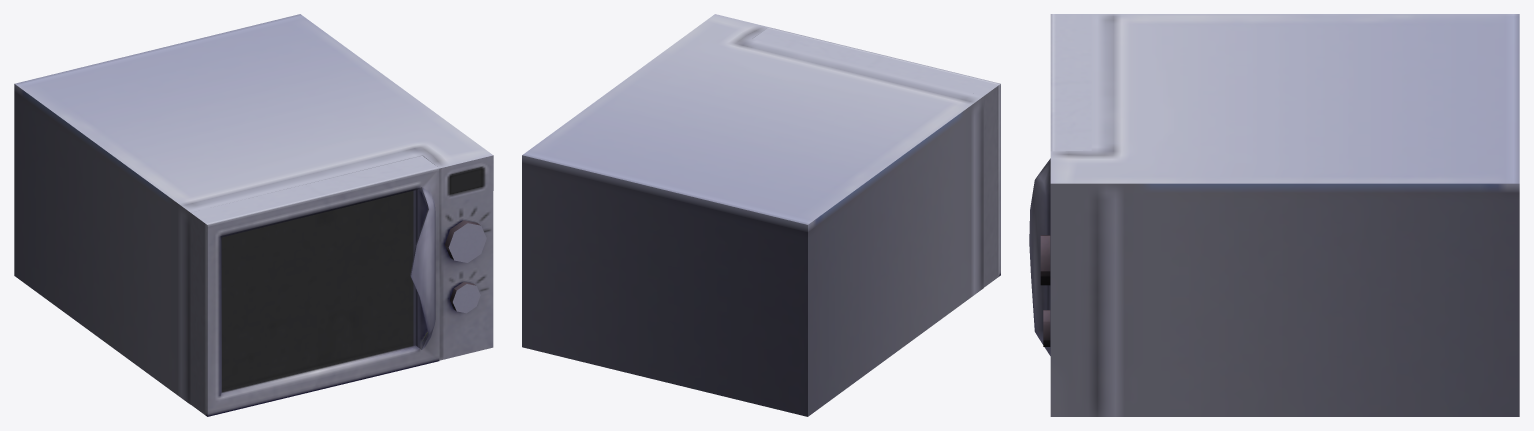
The model's file is XiuXiShi_01_weibolu_01.FBX.
The picture shows the model from 3 angles, left to right: view 1: azimuth 30°, elevation 25°; view 2: azimuth 150°, elevation 25°; view 3: azimuth 270°, elevation 25°; orthographic projection. The views are drawn at different scales.
Parts seen in each view (by area): view 1: XiuXiShi_weibolu_01; view 2: XiuXiShi_weibolu_01; view 3: XiuXiShi_weibolu_01.
Boxes of the visible parts, x1=… form: XiuXiShi_weibolu_01: x1=14, y1=14, x2=493, y2=416; XiuXiShi_weibolu_01: x1=522, y1=14, x2=1000, y2=416; XiuXiShi_weibolu_01: x1=1029, y1=14, x2=1519, y2=416.
Size of the model in its own units: 193 by 125 by 236.
